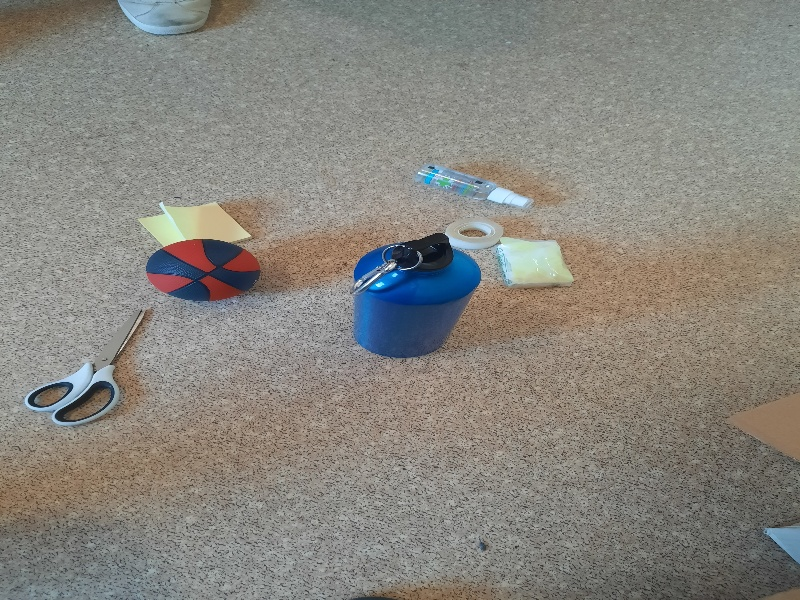ballon: (146, 239, 263, 302)
ciseaux: (24, 306, 150, 427)
gel: (417, 162, 535, 213)
gourde: (355, 233, 479, 361)
mouchoirs: (495, 238, 578, 287)
post-it: (136, 201, 255, 247)
scotch: (449, 220, 504, 247)
